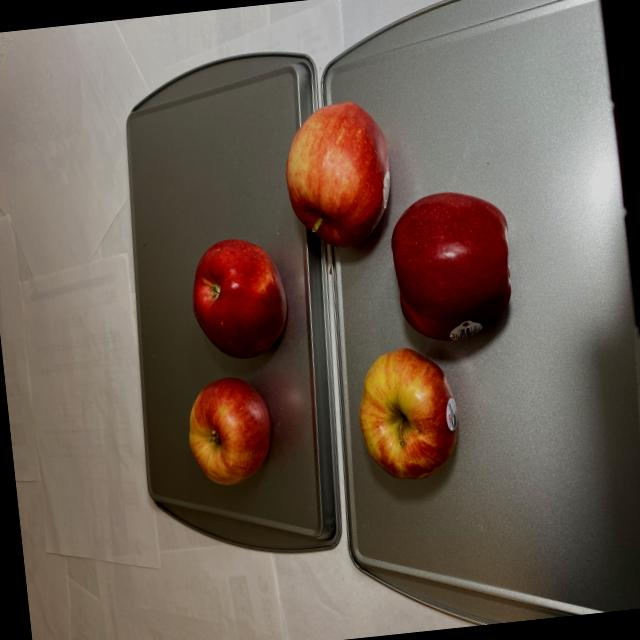apple: (279, 80, 535, 488), (166, 228, 304, 491)
